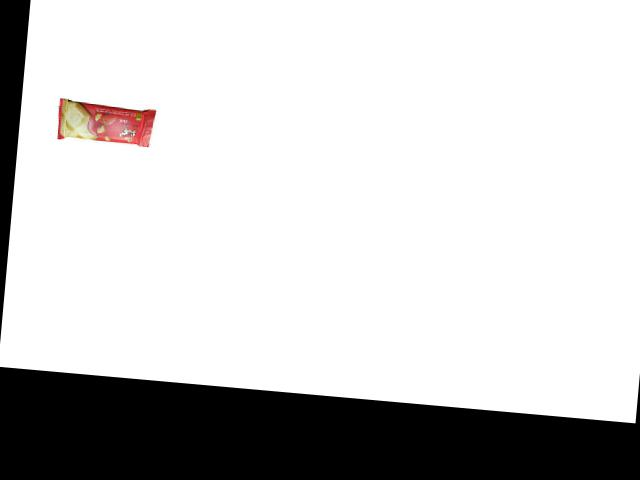chocolate: (55, 92, 163, 150)
